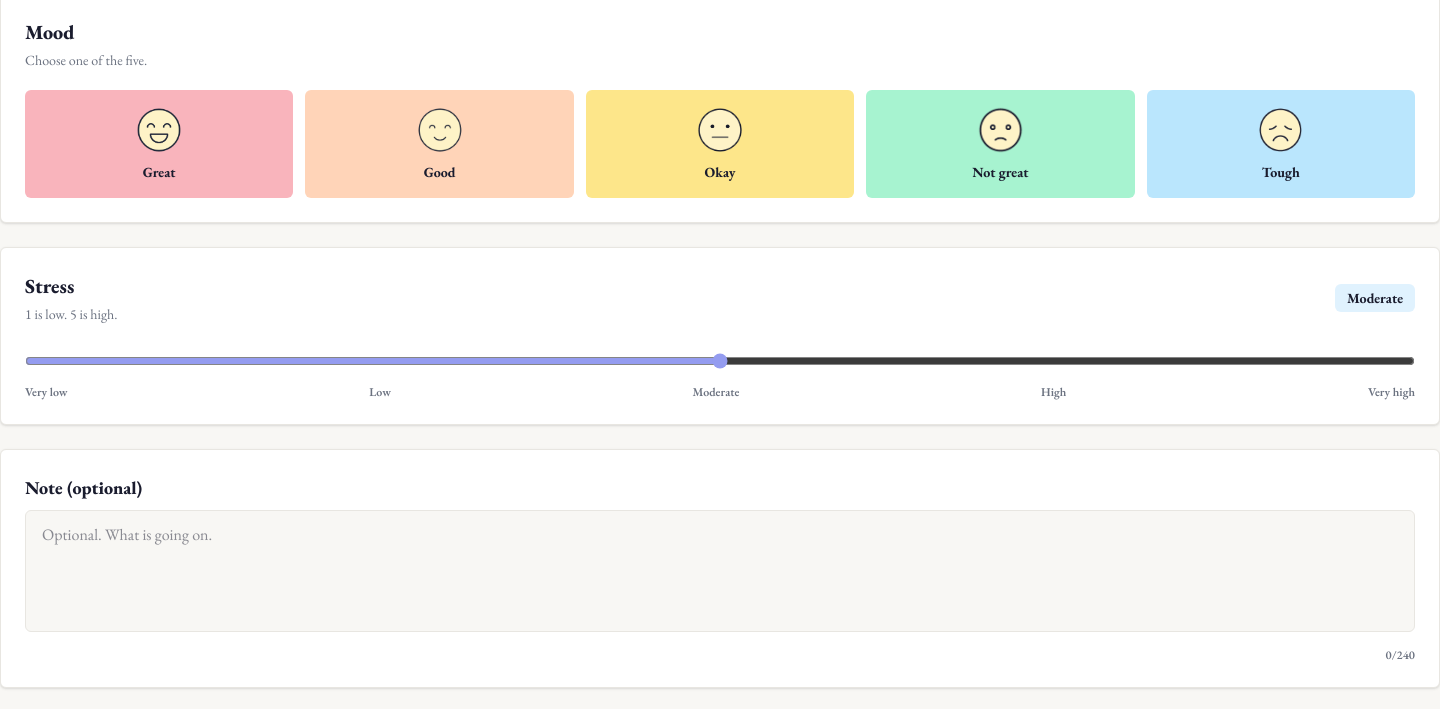
MoodStress › keeps what the user typed when saving fails
This screenshot has width=1440, height=709.
Click the button "Good": (440, 144) [305,90,574,198]
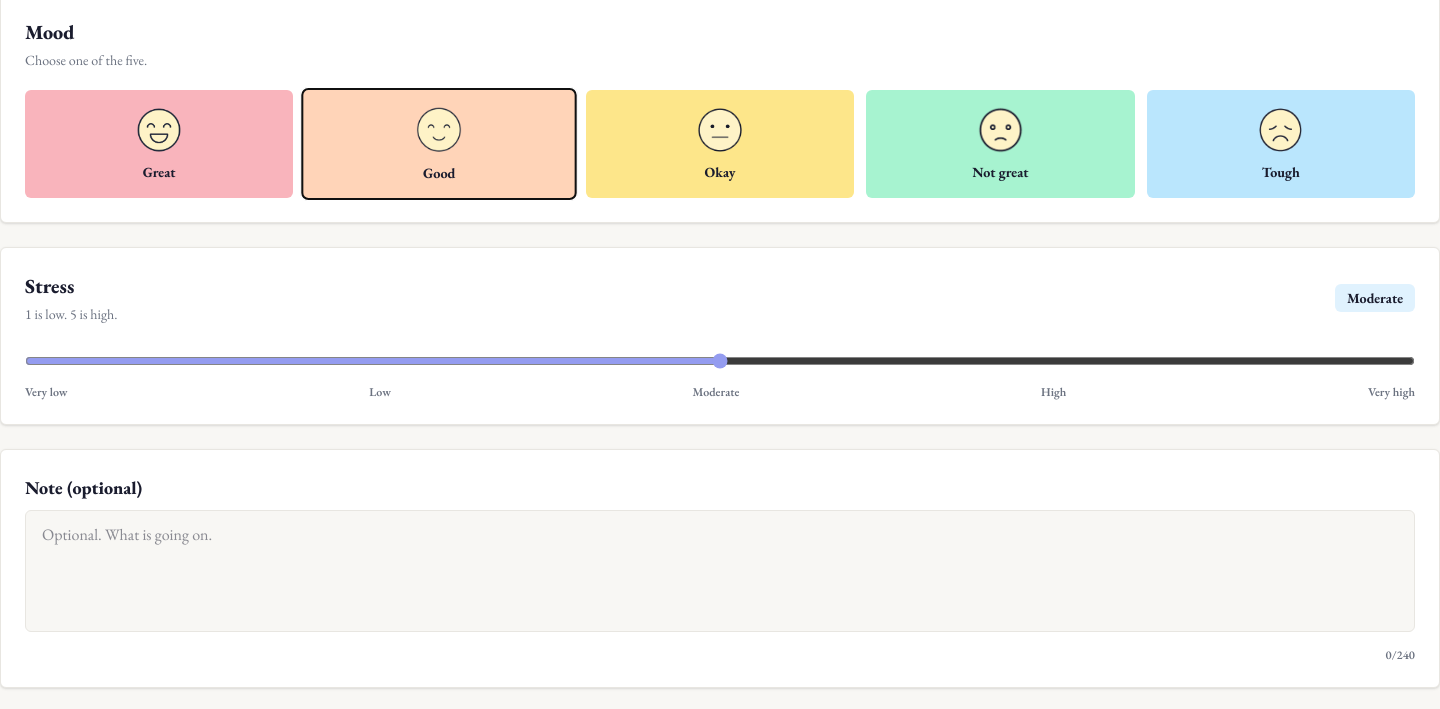
In the text box: (720, 571) [25,510,1415,632], type "Nice walk"
(page scrolled)
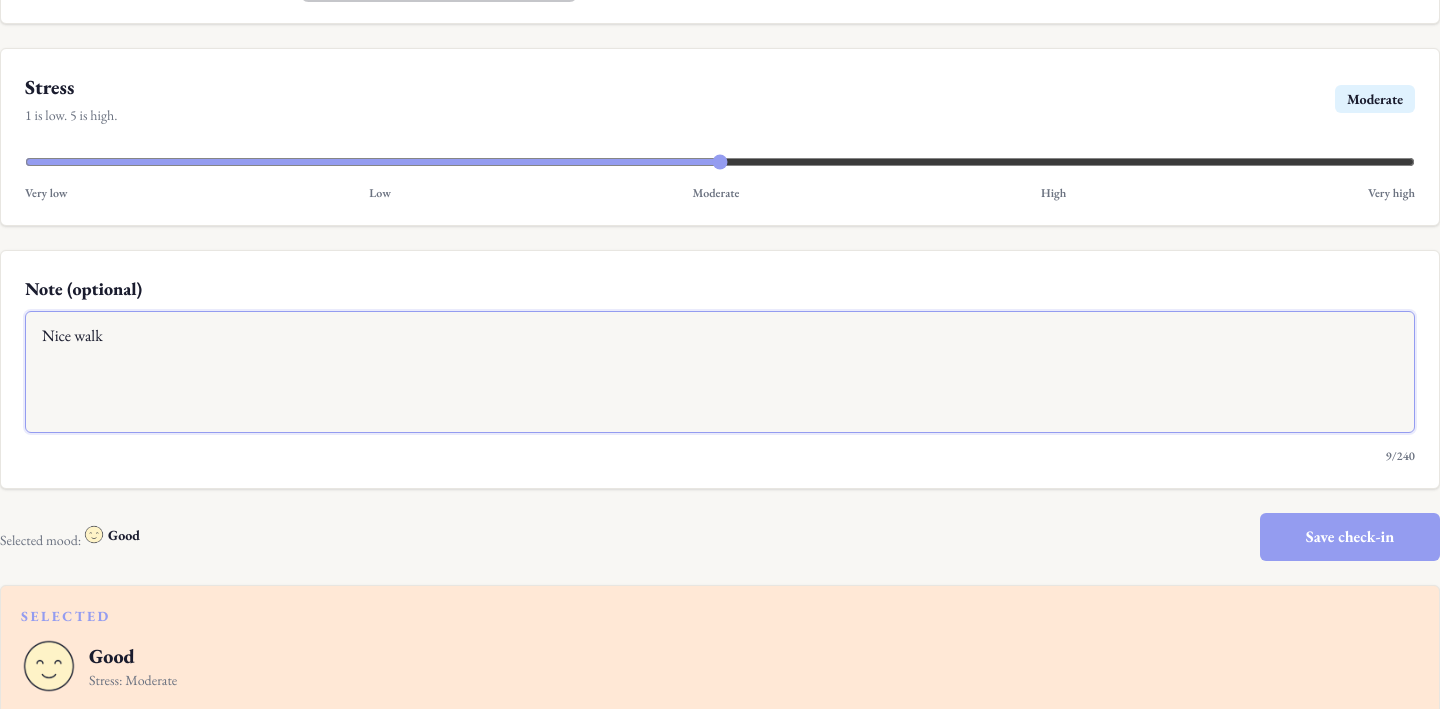
Click the button "Save check-in": (1350, 537) [1260,513,1439,561]
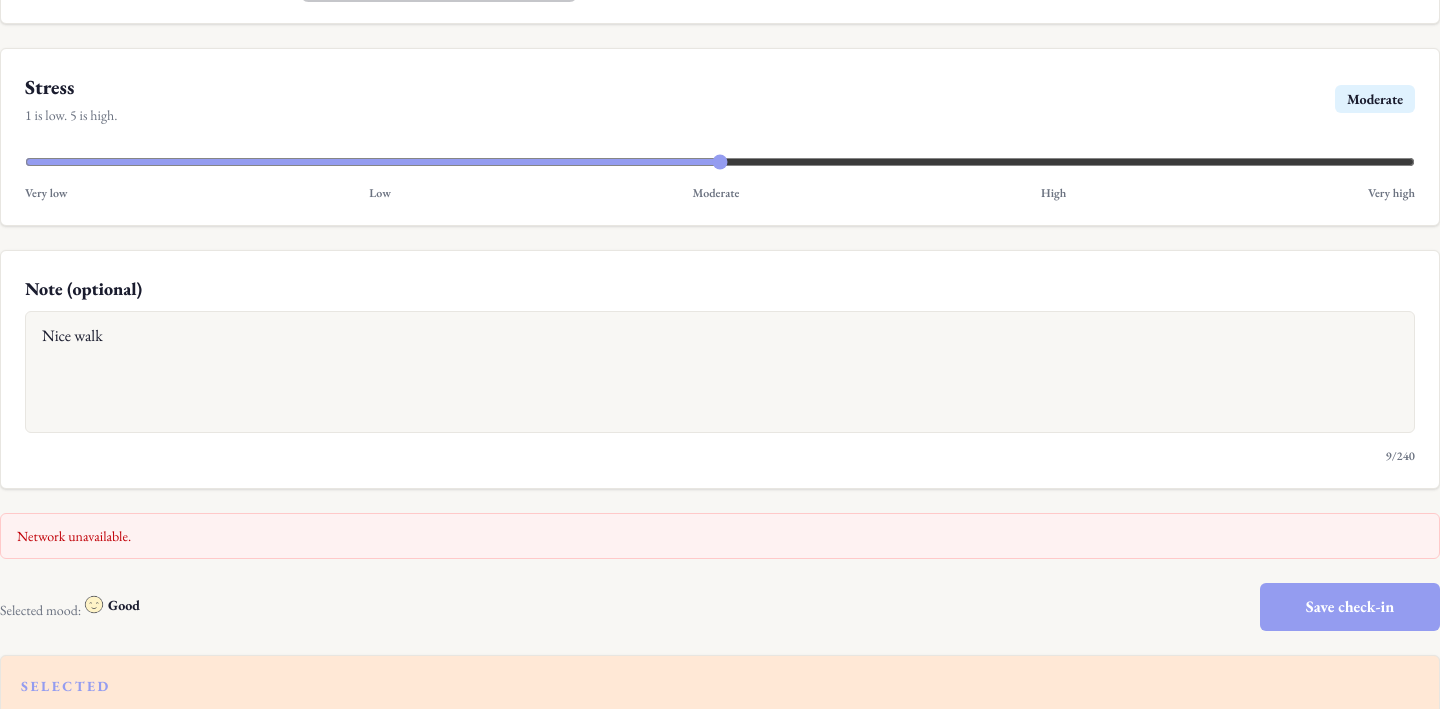
Now the message reads "Network unavailable.", box [17,527,131,545]
